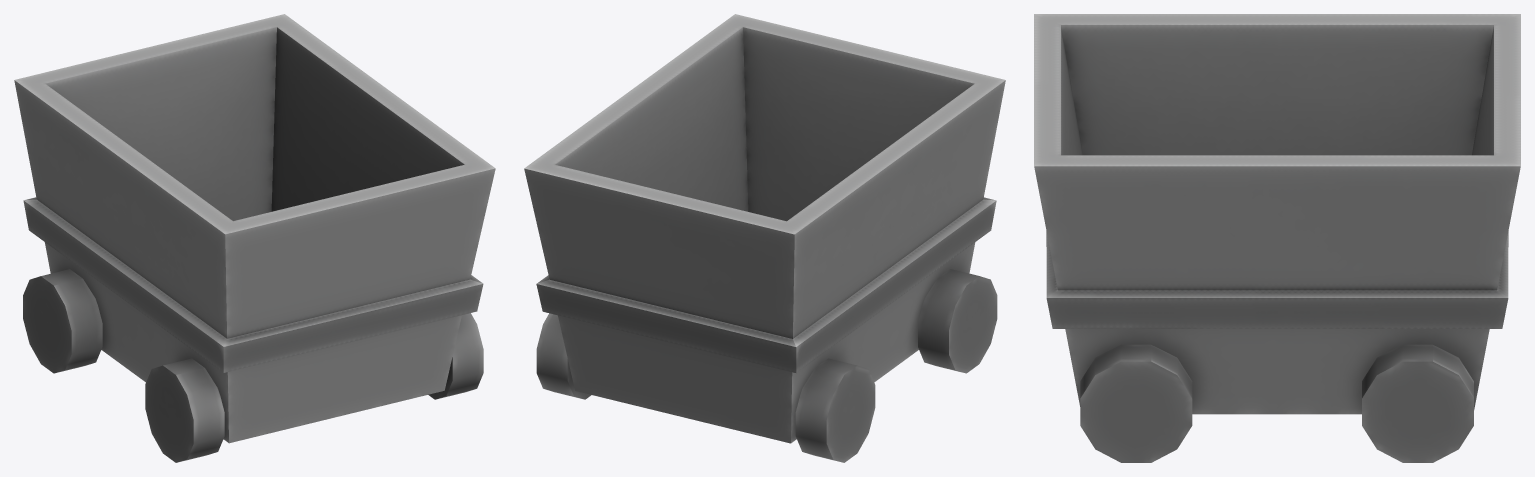
The model's file is RailsObject_6.fbx.
The picture shows the model from 3 angles, left to right: view 1: azimuth 30°, elevation 25°; view 2: azimuth 150°, elevation 25°; view 3: azimuth 270°, elevation 25°; orthographic projection. The views are drawn at different scales.
Visible parts, largest first — view 1: RailsObject_6; view 2: RailsObject_6; view 3: RailsObject_6.
Boxes of the visible parts, x1,y1,x2,y2 form: RailsObject_6: [14, 14, 495, 462]; RailsObject_6: [524, 14, 1005, 462]; RailsObject_6: [1034, 14, 1520, 462].
Size of the model in its own units: 31.46 by 26.27 by 39.65.
